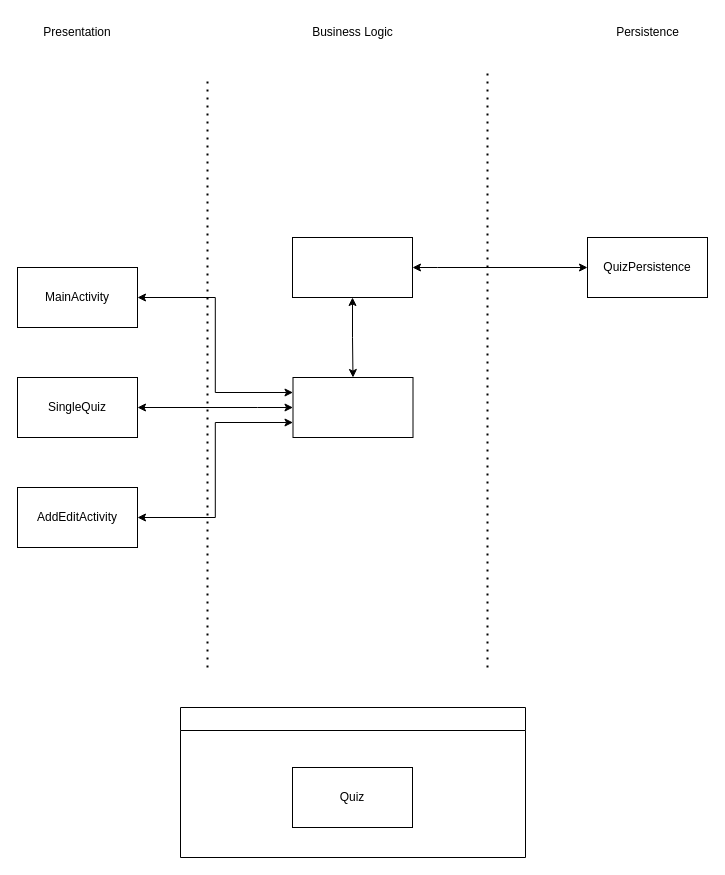
Some shapes in this 725 by 875 pixel diagram are drawn without their labels. The box of each missing label's shape, as (x1, y1, x2, y2) in pixels:
Domain Specific Objects: (180, 706, 526, 858)
QuizHandler: (292, 376, 413, 438)
Services: (292, 236, 412, 298)
